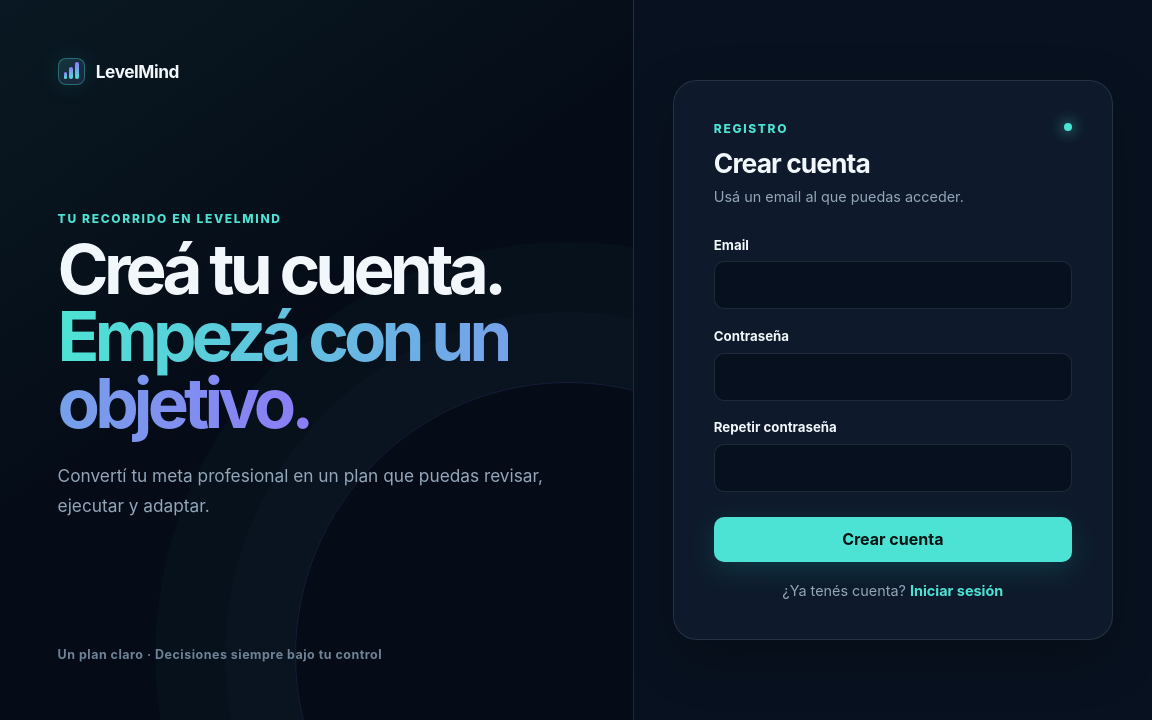
registration with Supabase Auth › submits credentials once and blocks double submit
Type "new@example.com" into the field labelled "Email" at (893, 285), box x1=714 y1=261 x2=1072 y2=309
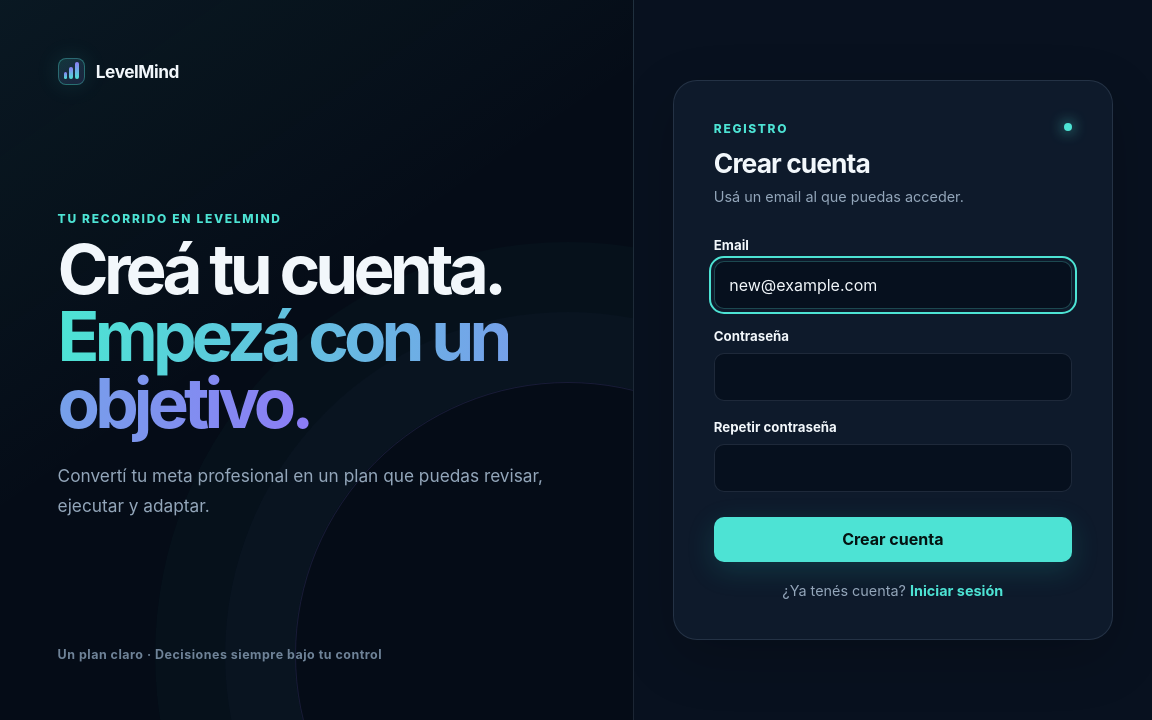
Type "secret1" into the password field labelled "Contraseña" at (893, 376), box x1=714 y1=352 x2=1072 y2=400
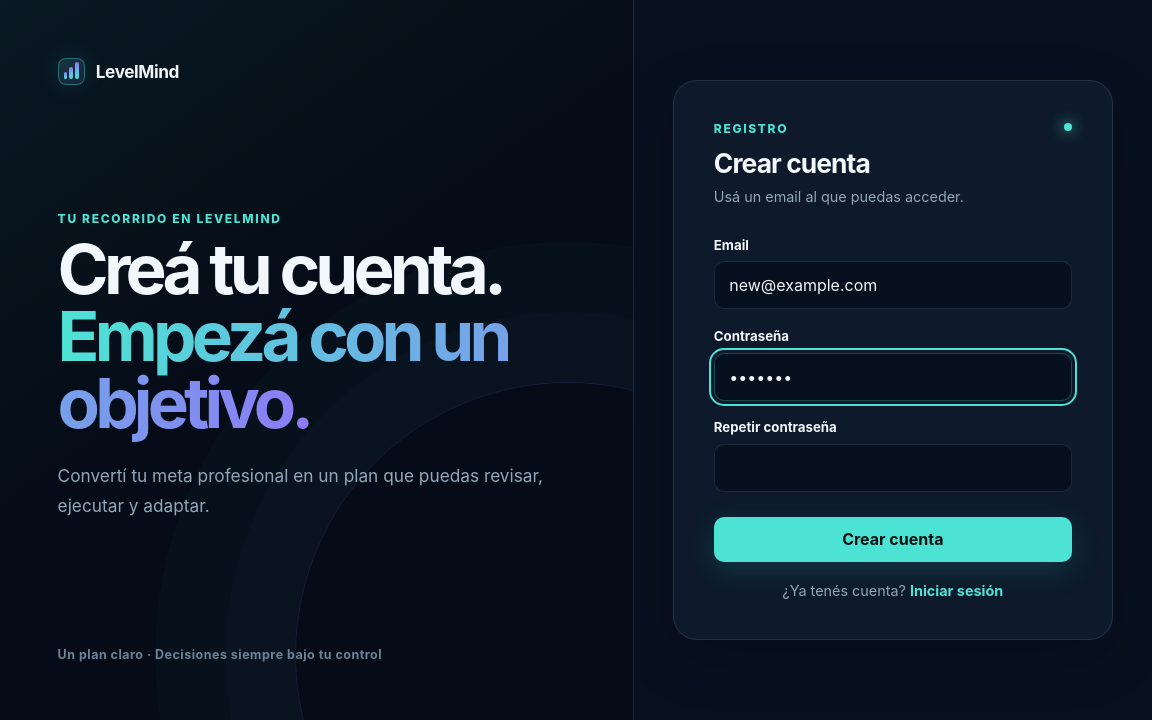
Type "secret1" into the password field labelled "Repetir contraseña" at (893, 468), box x1=714 y1=444 x2=1072 y2=492
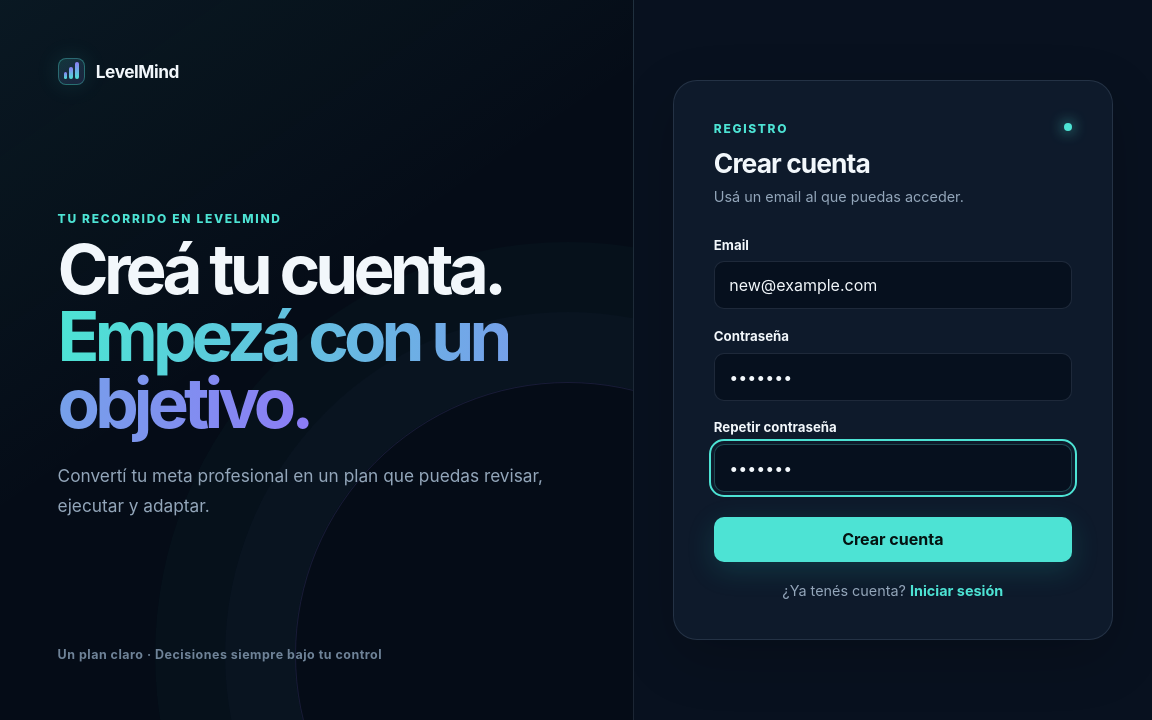
Double-click the button "Crear cuenta" at (893, 540), box x1=714 y1=517 x2=1072 y2=562
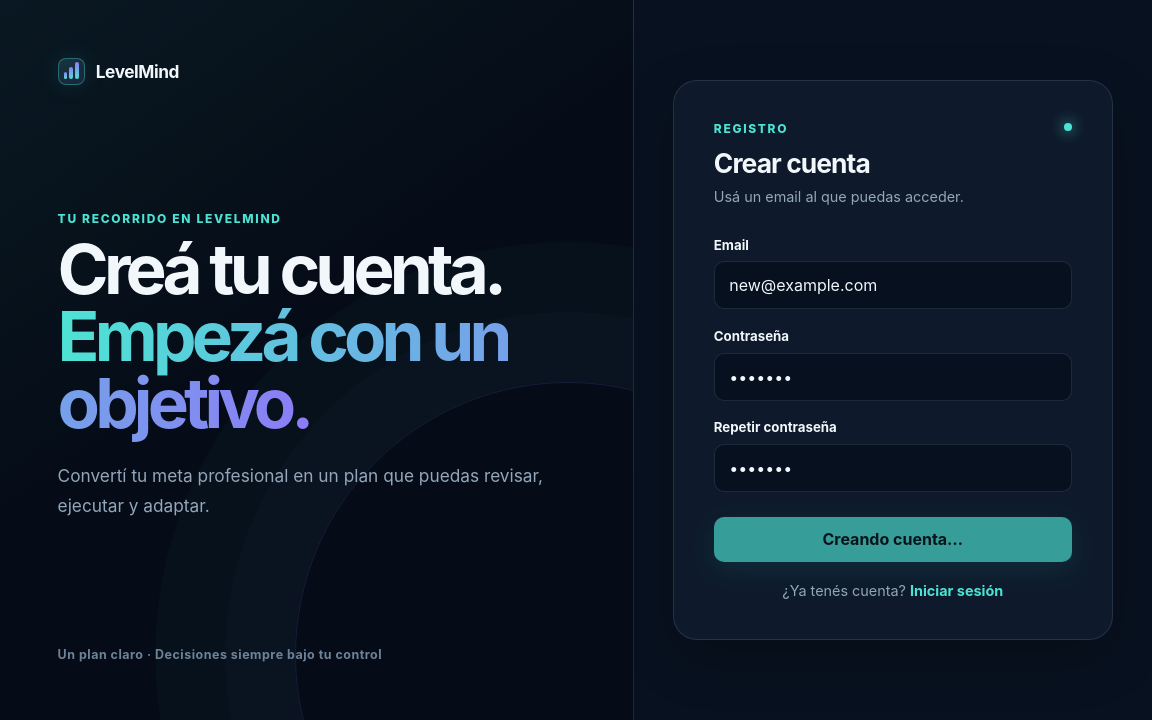
Expected: the button "Creando cuenta…" is disabled, x1=714 y1=517 x2=1072 y2=562
